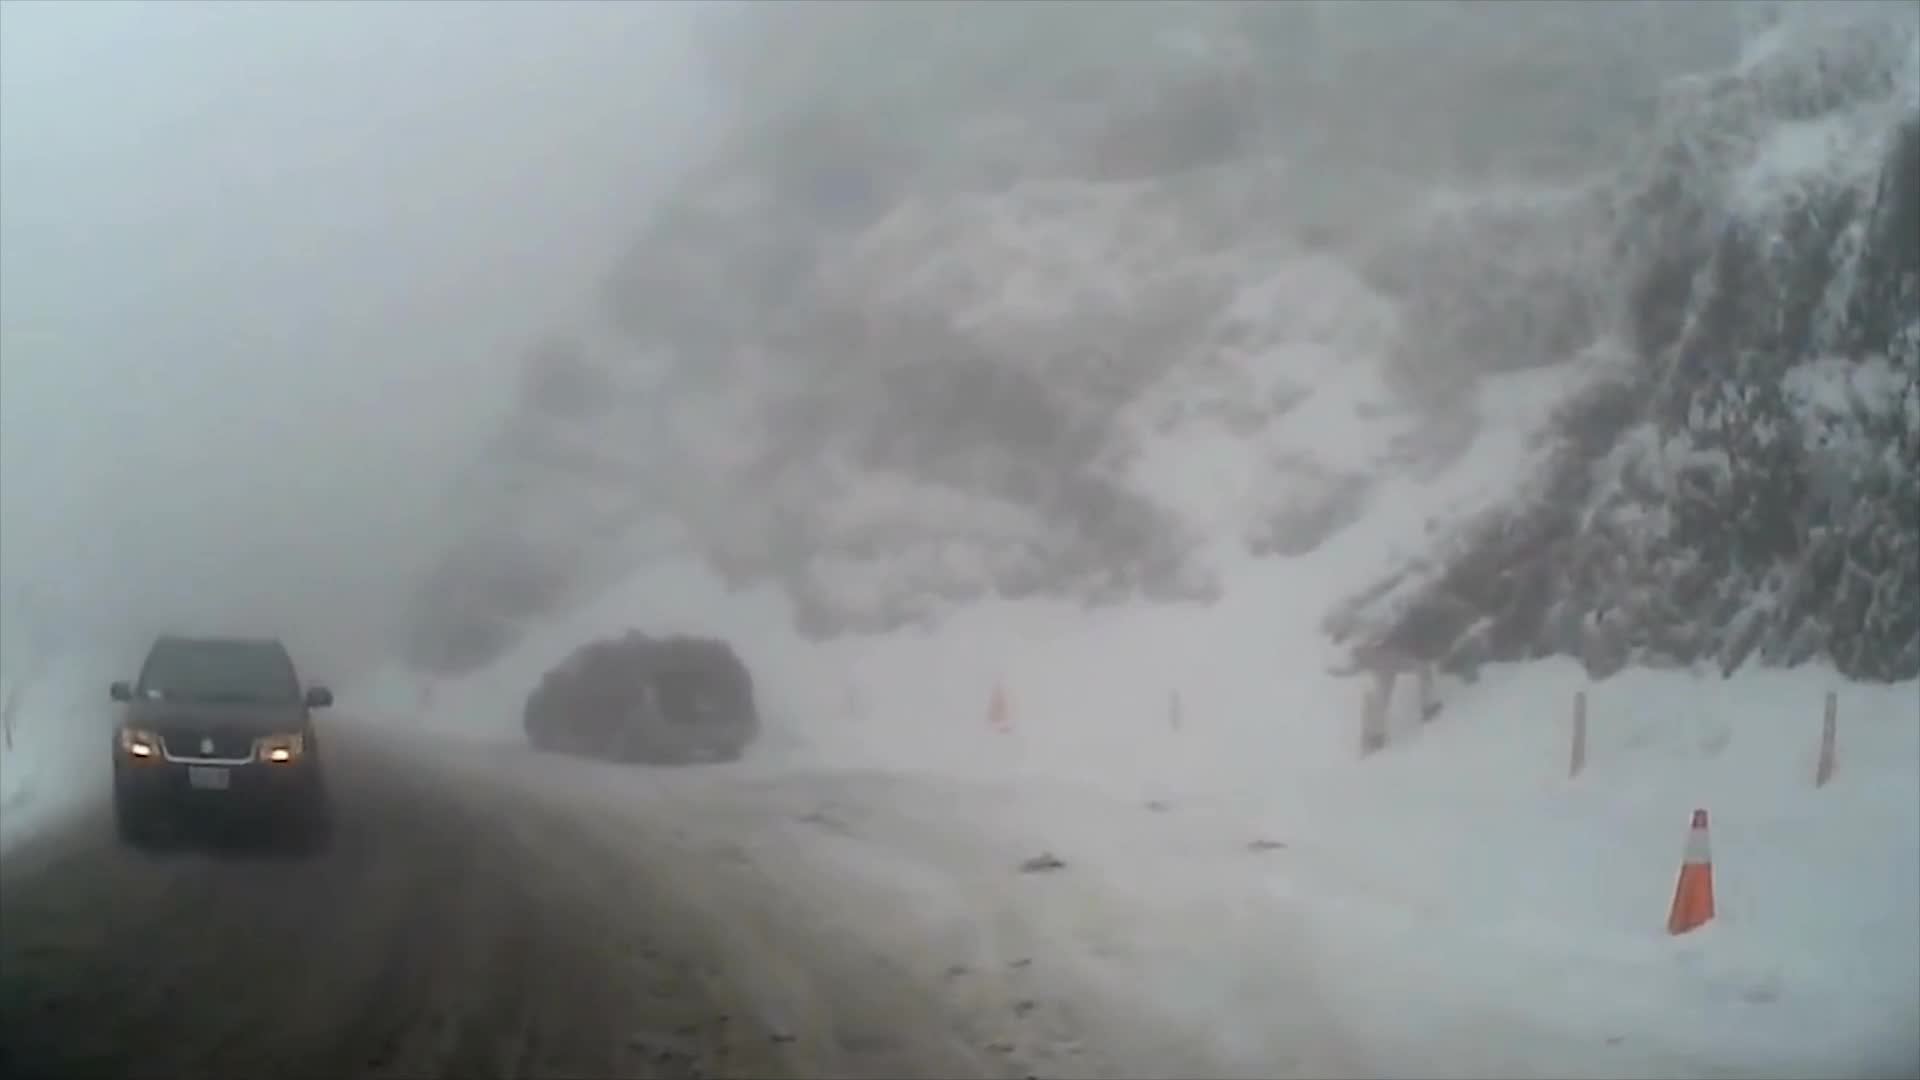vehicle: (102, 626, 332, 848), (521, 633, 756, 765)
